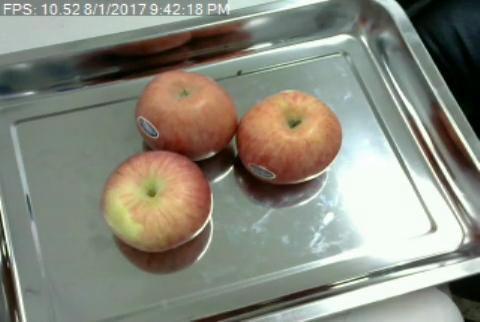apple: (100, 150, 212, 253), (236, 88, 342, 184), (134, 70, 236, 156)
